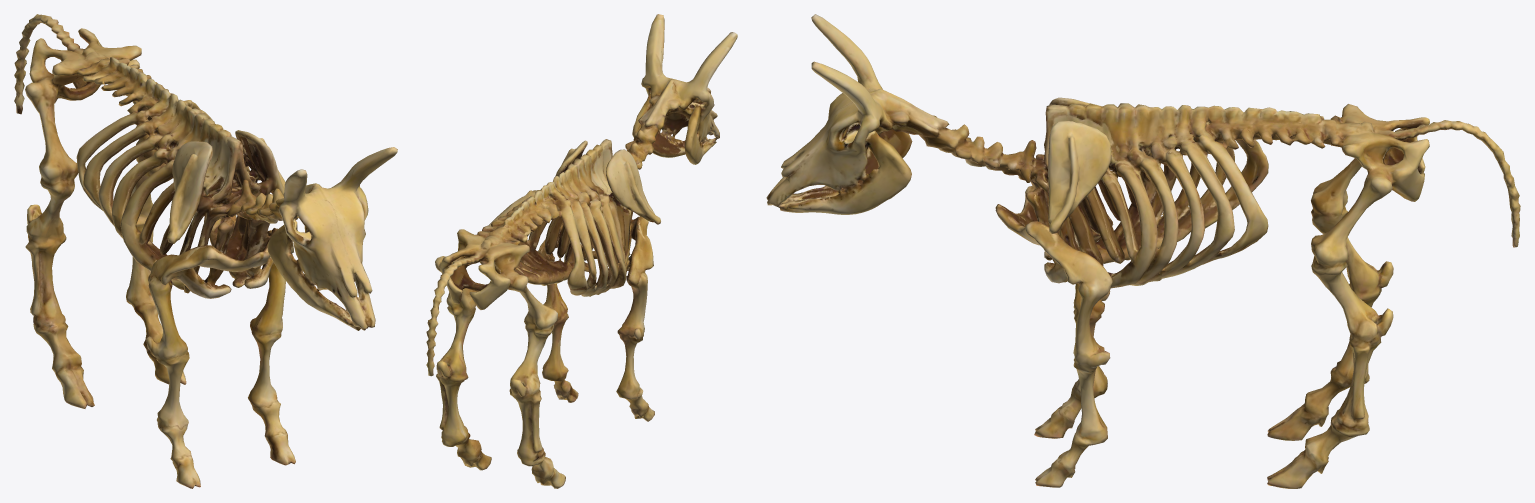
The model's file is vacaOssea.glb.
3 renders of one model, left to right at view 1: azimuth 30°, elevation 25°; view 2: azimuth 150°, elevation 25°; view 3: azimuth 270°, elevation 25°, orthographic. The views are drawn at different scales.
Visible parts, largest first — view 1: Mesh1.0; view 2: Mesh1.0; view 3: Mesh1.0.
Part boxes in pixels (x1=…): Mesh1.0: x1=14, y1=14, x2=397, y2=488; Mesh1.0: x1=426, y1=14, x2=737, y2=488; Mesh1.0: x1=766, y1=14, x2=1520, y2=488.
Size of the model in its own units: 0.4375 by 1.19 by 1.93.
1 material, 1 textured.
